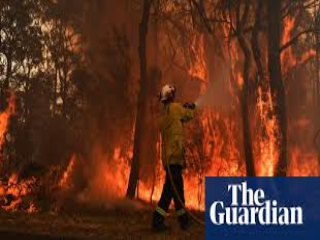fire: (127, 23, 305, 208)
